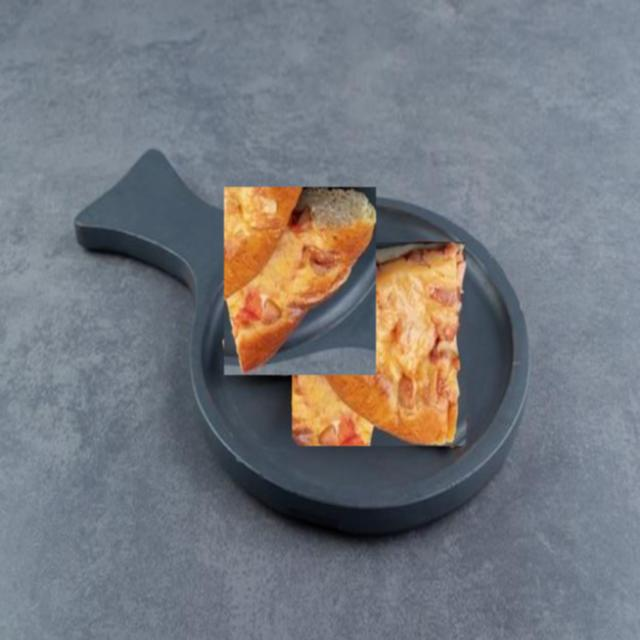pizza: (292, 242, 466, 446), (224, 187, 376, 375)
